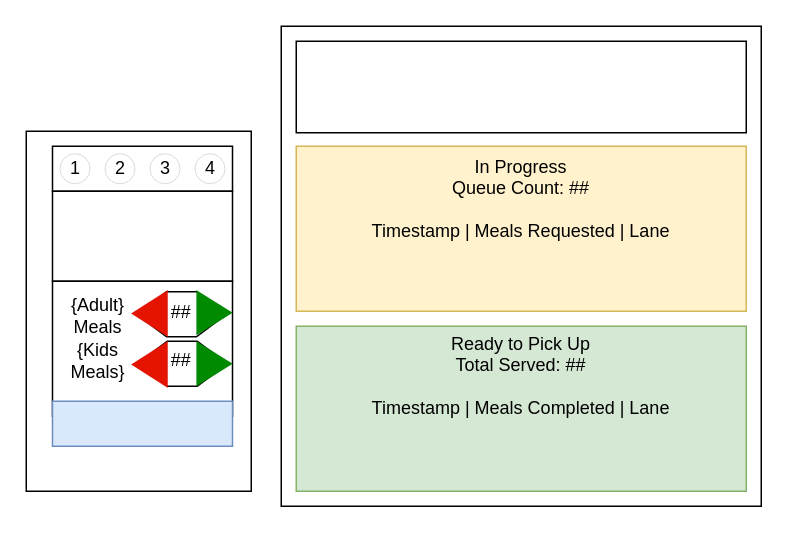
The diagram is 788 pixels wide and 533 high, and some of its shapes have lost their labels. Each missing label, with the centre of its shape:
Submit: [141,423]
Todays Menu: [141,235]
Todays Menu [TEXT BOX] Updates db -> mobile screen on change: [520,86]
